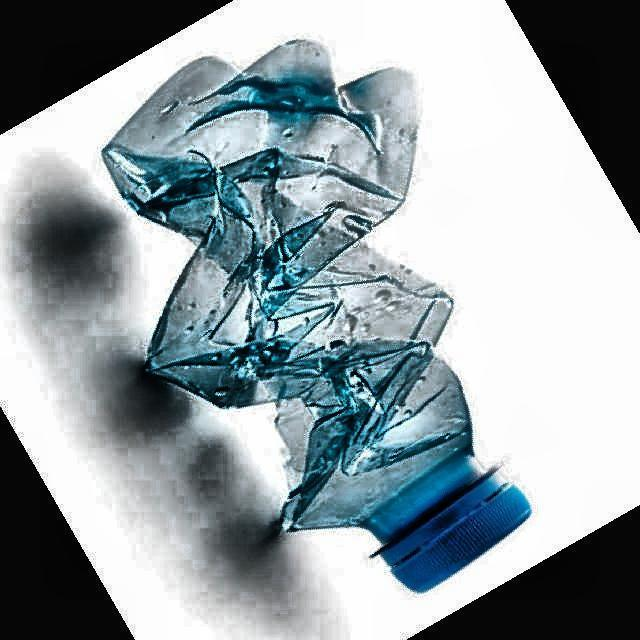plastic: (102, 41, 530, 591)
